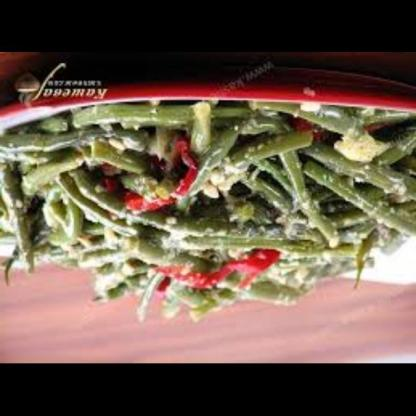fasol: (1, 112, 407, 316)
